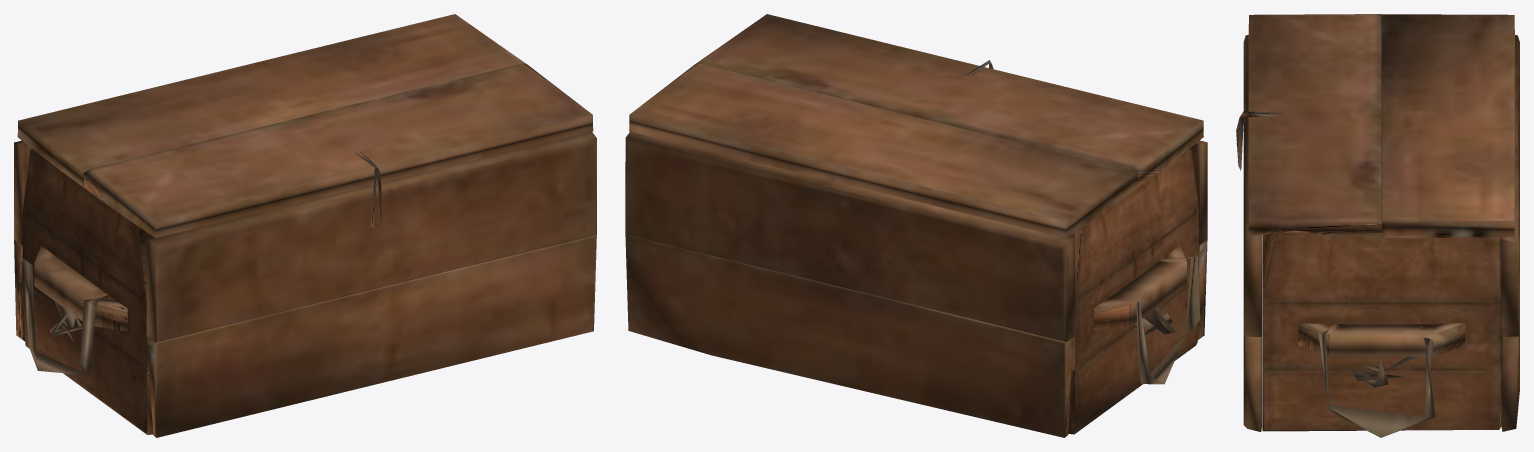
The model's file is thung-go.glb.
3 renders of one model, left to right at view 1: azimuth 30°, elevation 25°; view 2: azimuth 150°, elevation 25°; view 3: azimuth 270°, elevation 25°, orthographic. The views are drawn at different scales.
Visible parts, largest first — view 1: wooden_crate_01, wooden_crate_01_lid; view 2: wooden_crate_01, wooden_crate_01_lid; view 3: wooden_crate_01_lid, wooden_crate_01, wooden_crate_01_latch.
Boxes of the visible parts, x1,y1,x2,y2 form: wooden_crate_01: (14,132,596,437); wooden_crate_01_lid: (17,14,593,238); wooden_crate_01: (625,131,1207,437); wooden_crate_01_lid: (629,14,1203,237); wooden_crate_01_lid: (1248,14,1514,237); wooden_crate_01: (1243,35,1519,437); wooden_crate_01_latch: (1236,111,1283,170).
Size of the model in its own units: 0.9846 by 0.4148 by 0.4867.
Materials: 1 (1 with a texture image).
